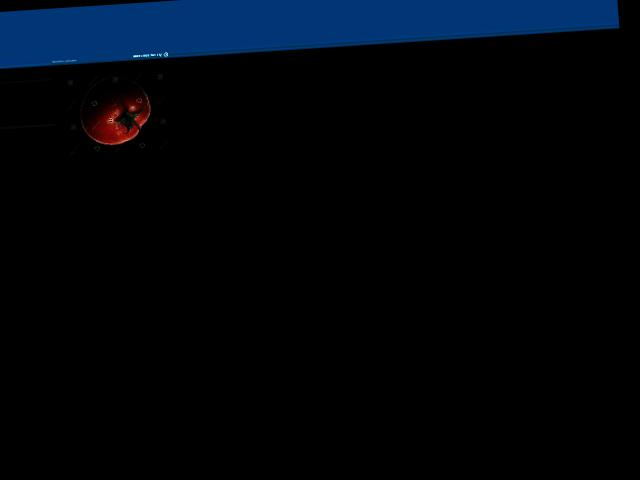tomato: (77, 74, 152, 146)
